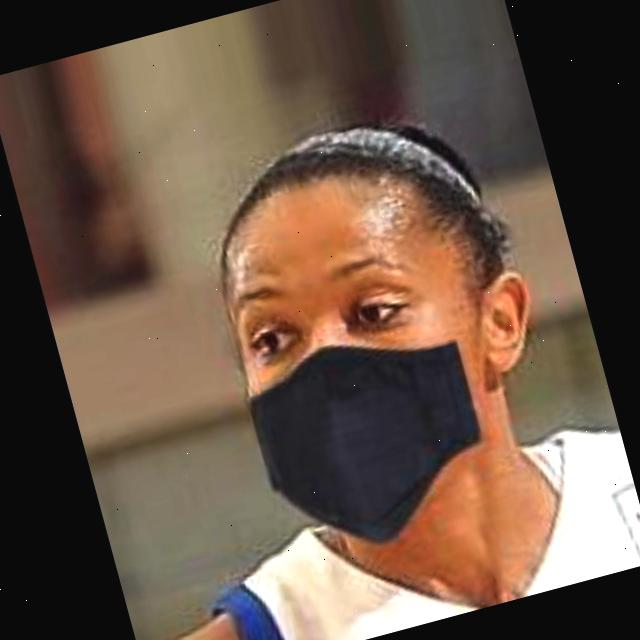suspicion: (145, 68, 588, 562)
